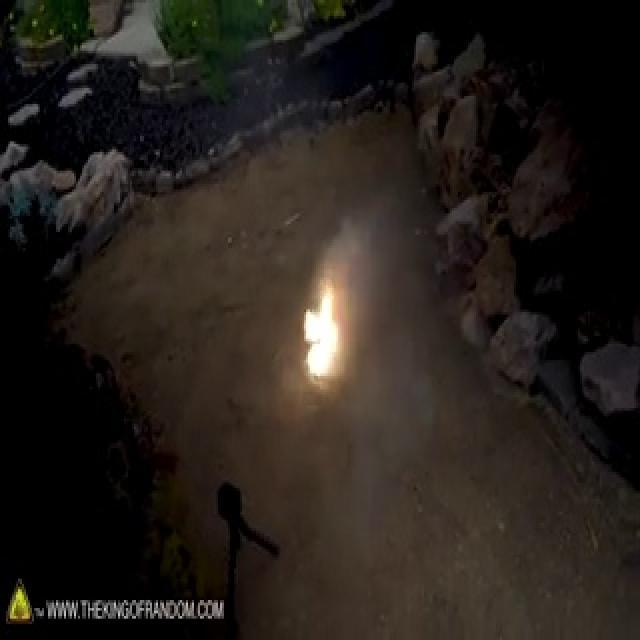Fire: (295, 277, 345, 392)
Smoke: (315, 206, 367, 290)
